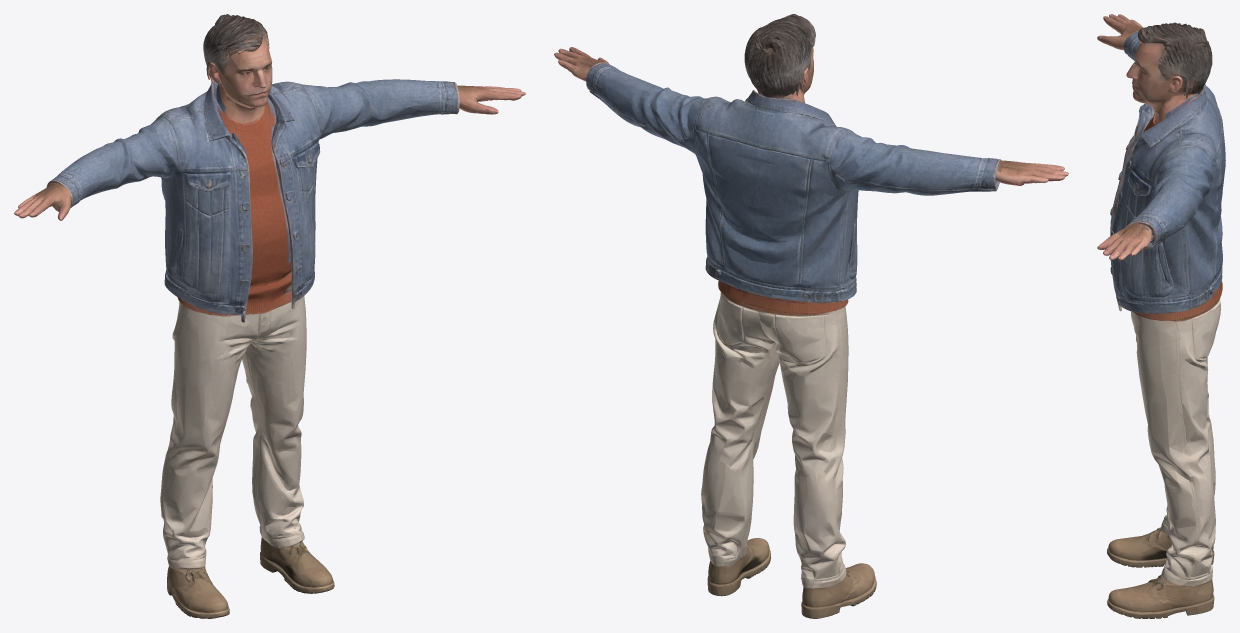
File: character_n08_generated.glb
The picture shows the model from 3 angles, left to right: view 1: azimuth 30°, elevation 25°; view 2: azimuth 150°, elevation 25°; view 3: azimuth 270°, elevation 25°; orthographic projection.
Size of the model in its own units: 1.78 by 1.9 by 0.3965.
1 material, 1 textured.
